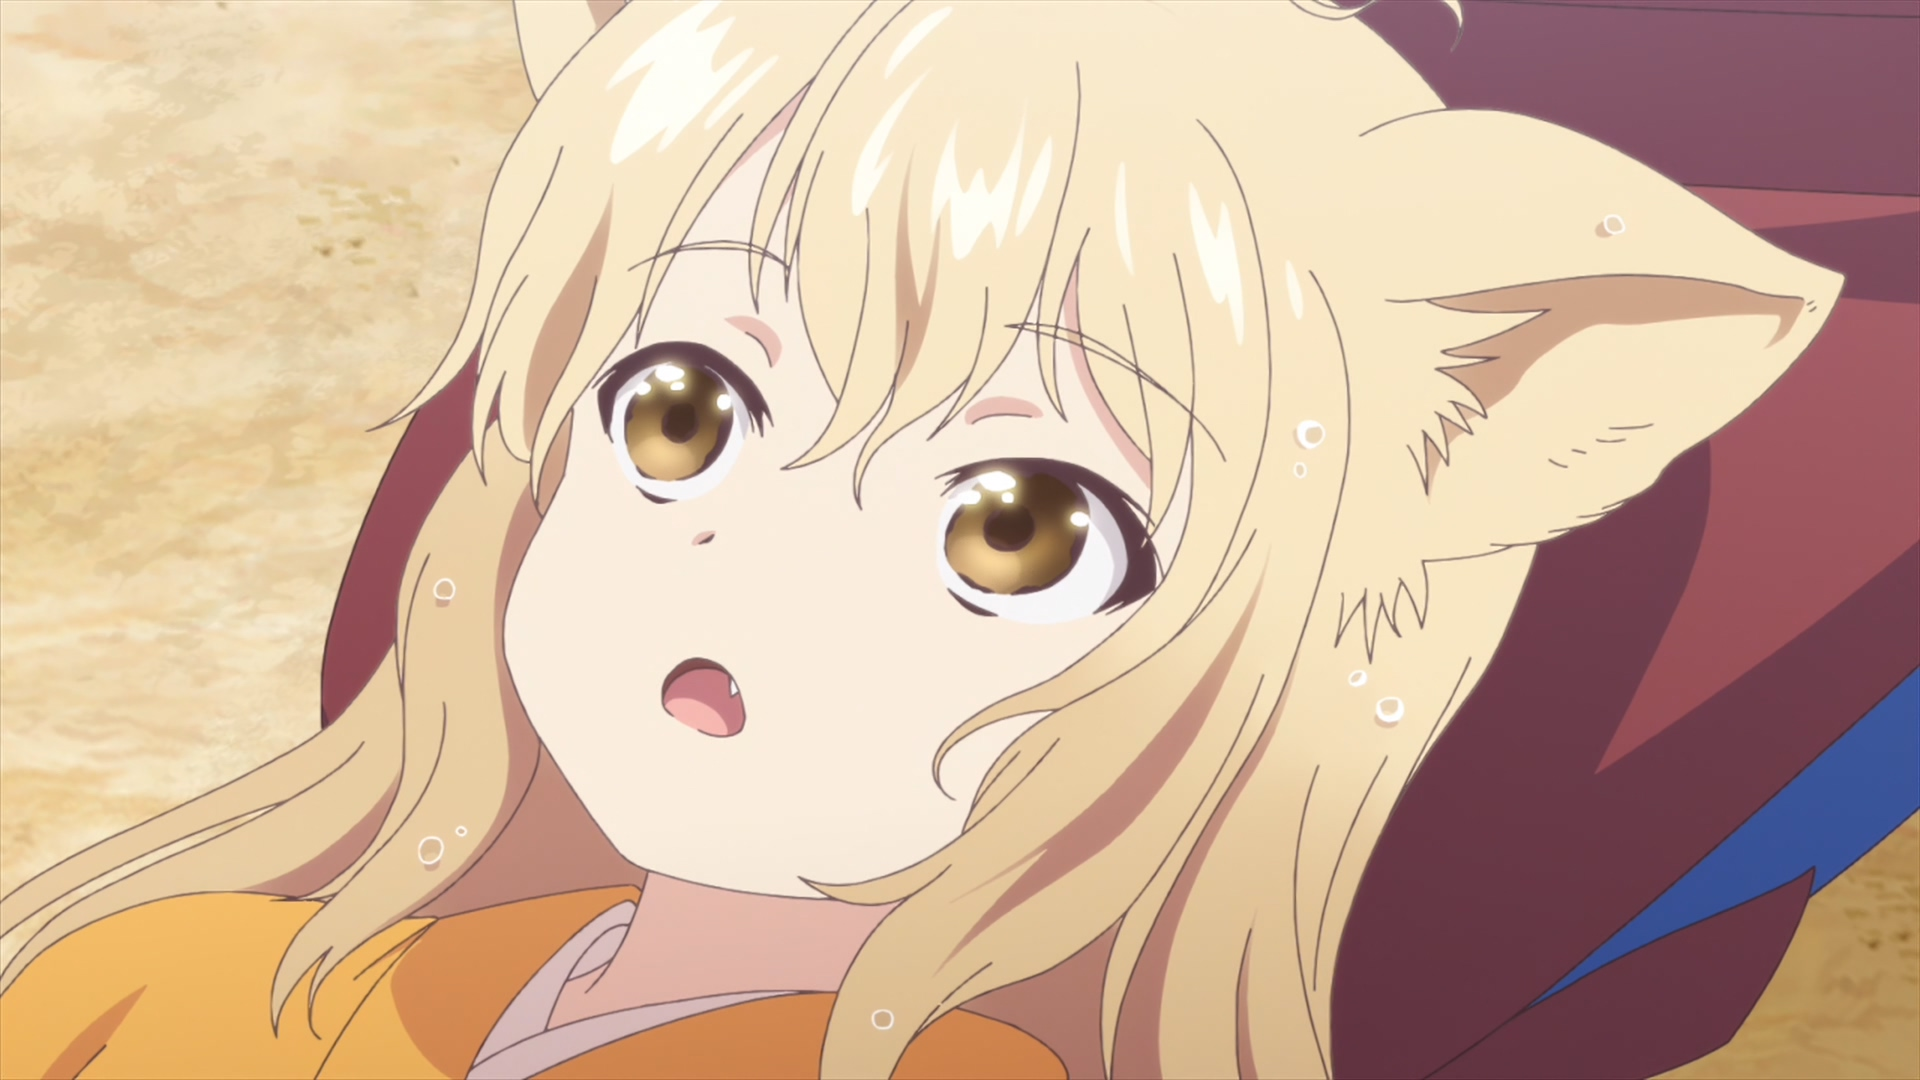柚: (1, 1, 1844, 1080)
